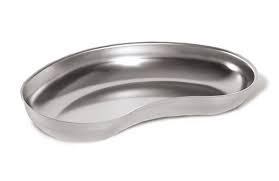Kidney Tray: (16, 39, 262, 143)
